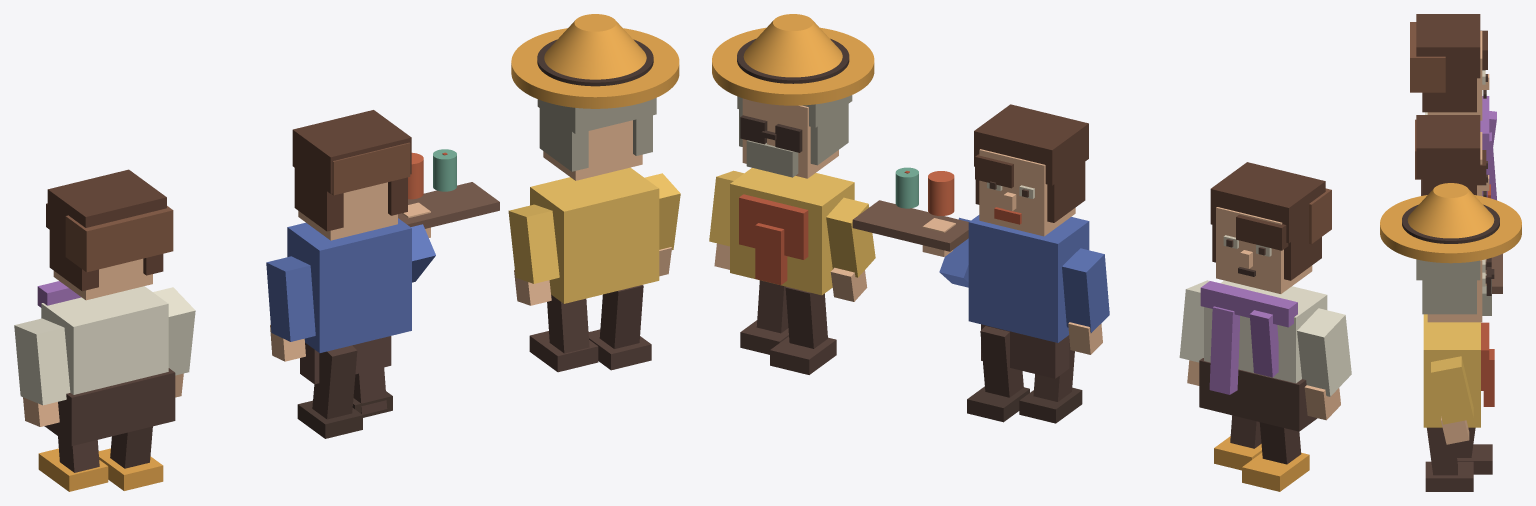
File: orbit_character_trio.glb
3 views of the same model, side by side, from view 1: azimuth 30°, elevation 25°; view 2: azimuth 150°, elevation 25°; view 3: azimuth 270°, elevation 25° (orthographic). The views are drawn at different scales.
Size of the model in its own units: 0.00457 by 0.0023 by 0.00104.
